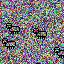sheep: (6, 23, 21, 35), (2, 37, 17, 49), (32, 27, 47, 39), (54, 46, 64, 59)
